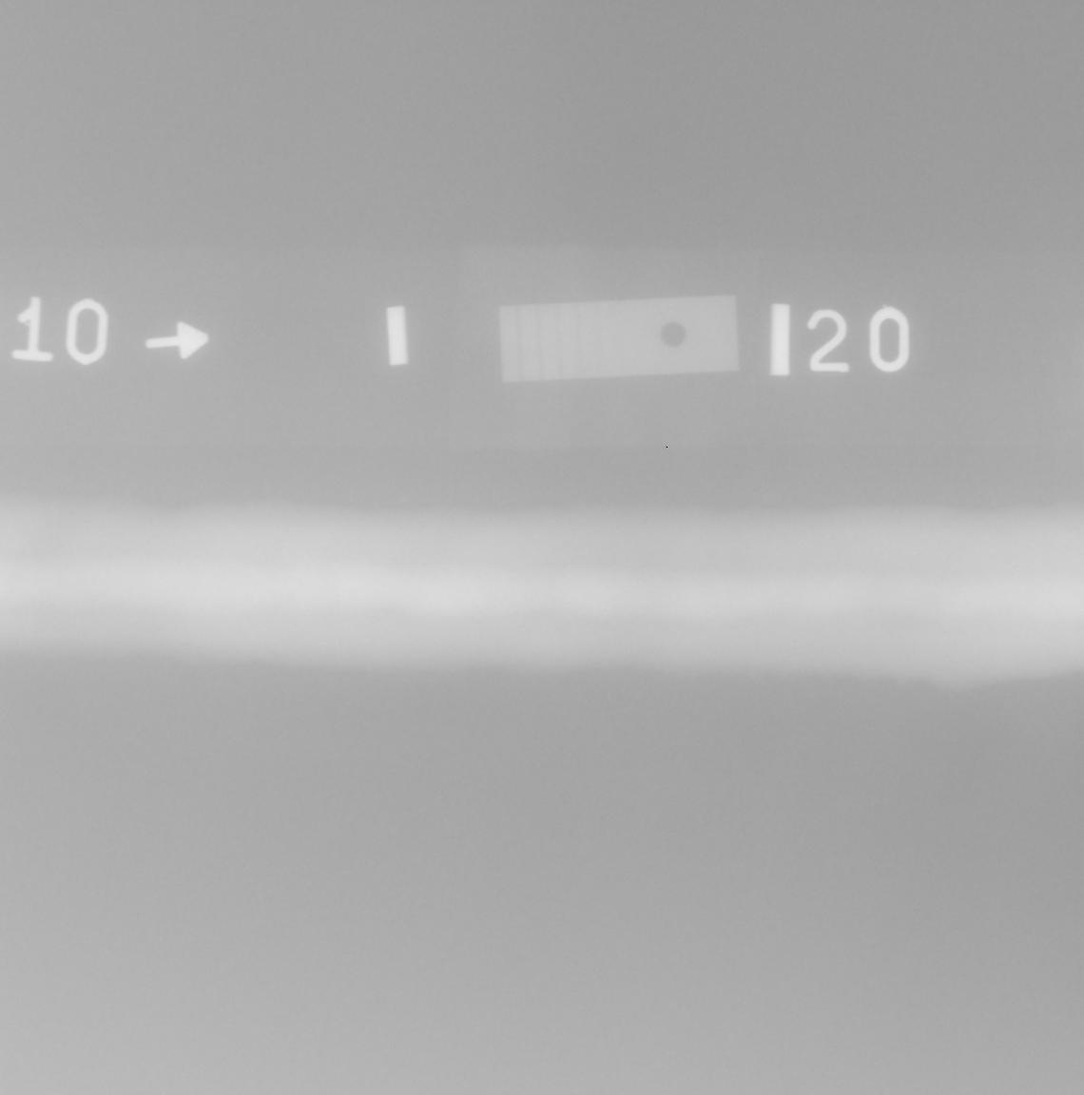Reference Standard 1: (499, 295, 738, 382)
